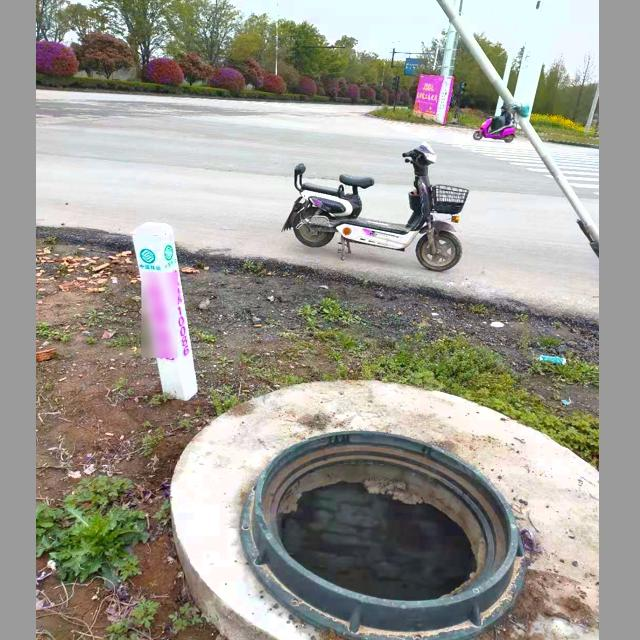lose: (237, 432, 529, 640)
